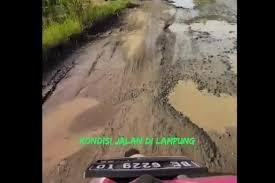Pothole: (155, 69, 237, 173), (30, 84, 96, 161), (159, 0, 234, 66)
